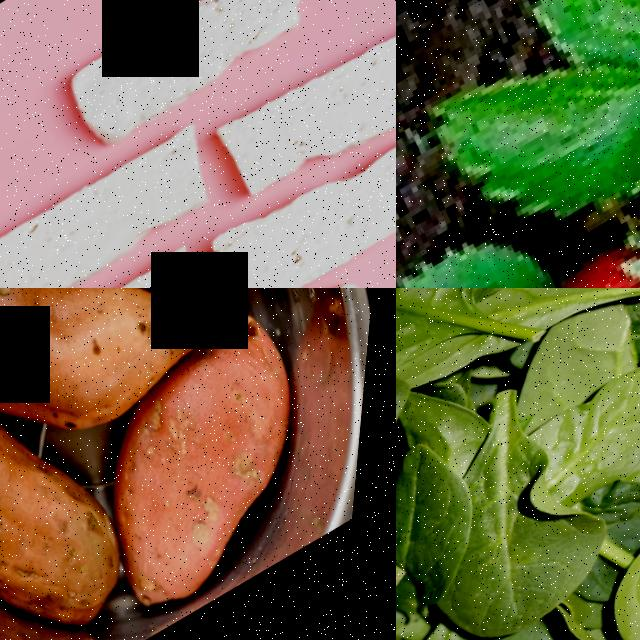spinach: (416, 464, 635, 640), (532, 350, 640, 517), (396, 288, 516, 433), (396, 351, 449, 609), (585, 483, 640, 640)
strawberry: (525, 225, 640, 288)
sweet potato: (47, 298, 378, 640), (0, 303, 175, 640), (0, 288, 281, 403)
tofu: (51, 0, 328, 168), (215, 10, 396, 221), (0, 127, 233, 288), (208, 130, 396, 288)
